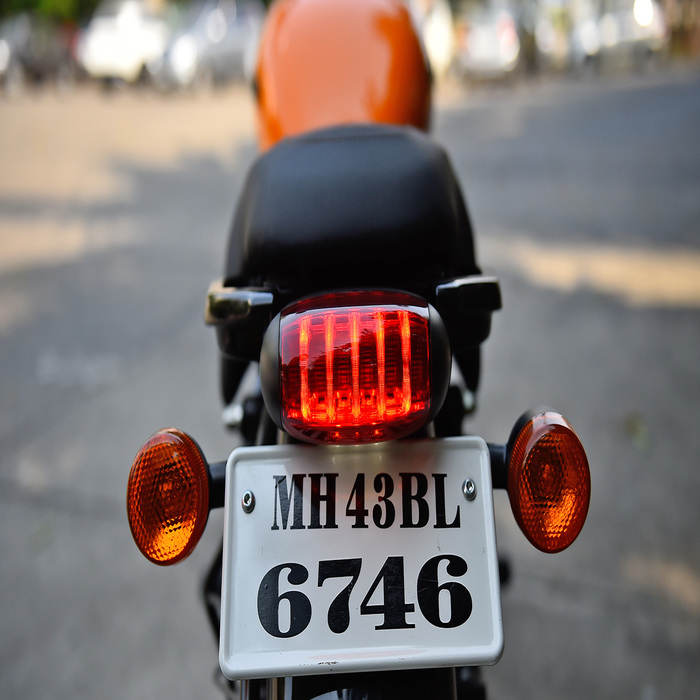n: (224, 441, 499, 659)
